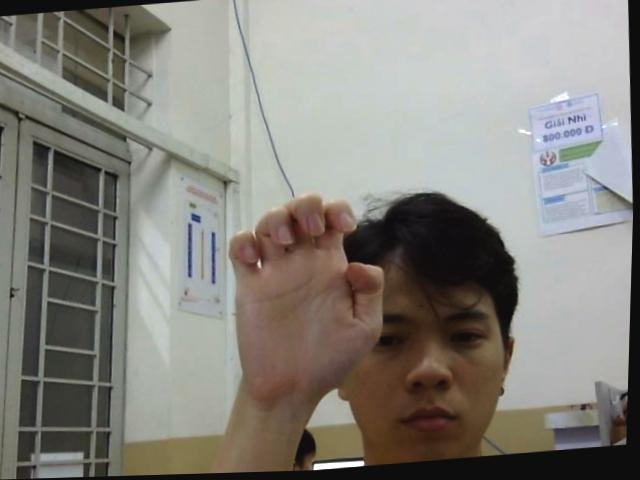E: (222, 187, 392, 393)
